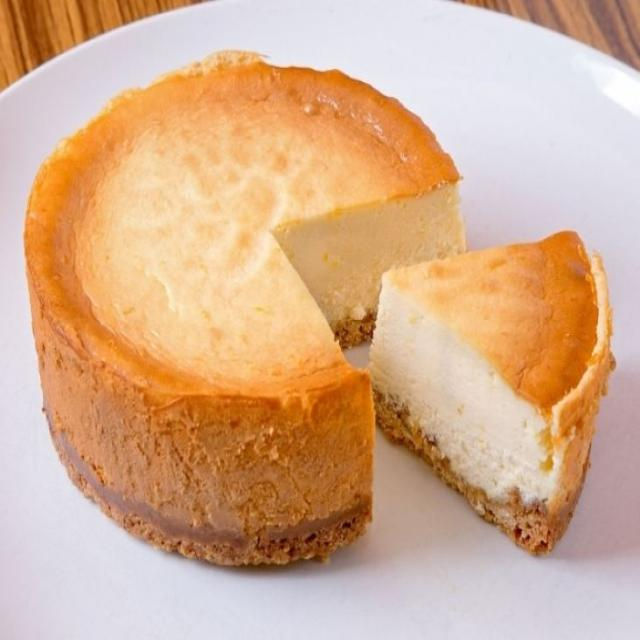cheesecake: (17, 44, 624, 576)
